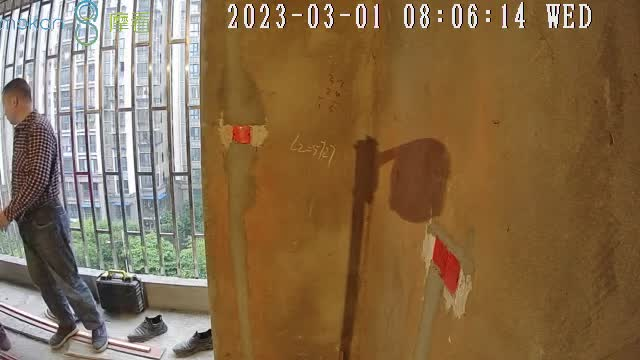people: (2, 78, 108, 352)
window: (2, 2, 208, 279)
